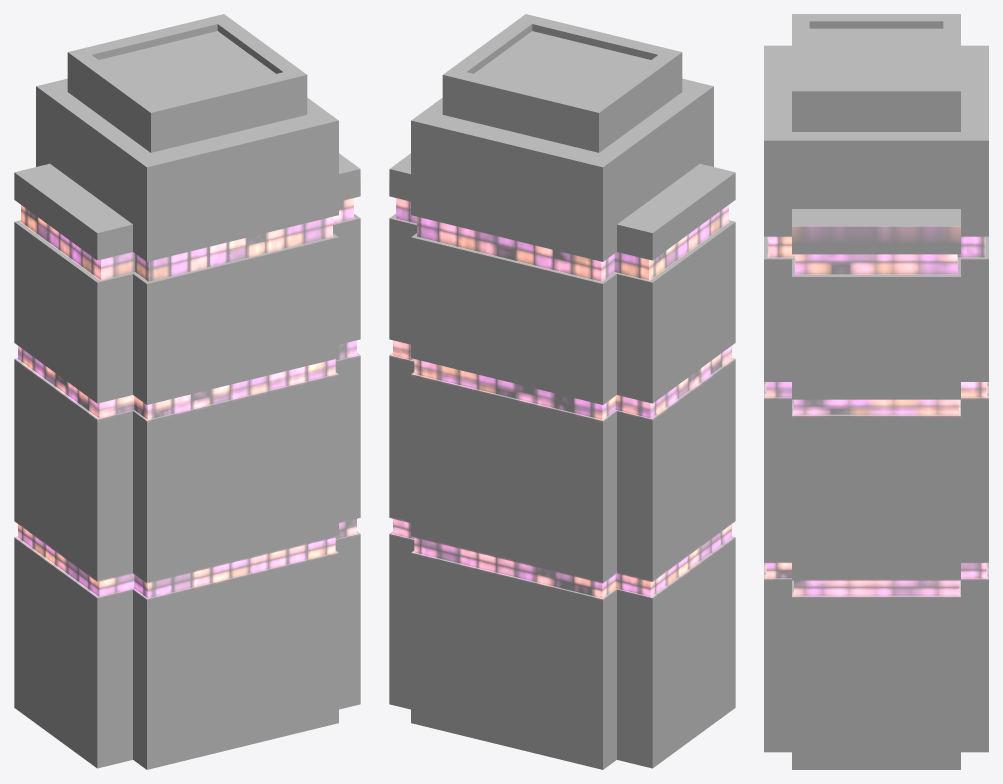
The model's file is BuildingTall.fbx.
3 renders of one model, left to right at view 1: azimuth 30°, elevation 25°; view 2: azimuth 150°, elevation 25°; view 3: azimuth 270°, elevation 25°, orthographic.
Parts seen in each view (by area): view 1: BuildingTall; view 2: BuildingTall; view 3: BuildingTall.
Part boxes in pixels (x1,y1,x2,y2): BuildingTall: (14,14,360,769); BuildingTall: (389,14,735,769); BuildingTall: (764,14,988,769).
Bounding box in the file's own units: 656 × 1529 × 478.
